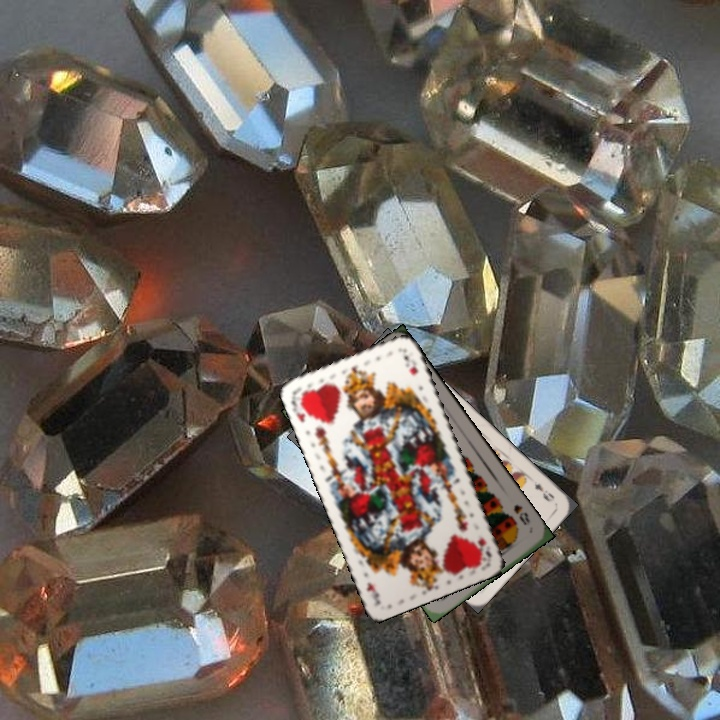E9: (530, 477, 558, 504)
HK: (287, 389, 313, 424), (473, 533, 494, 561)
S8: (509, 500, 533, 528)
